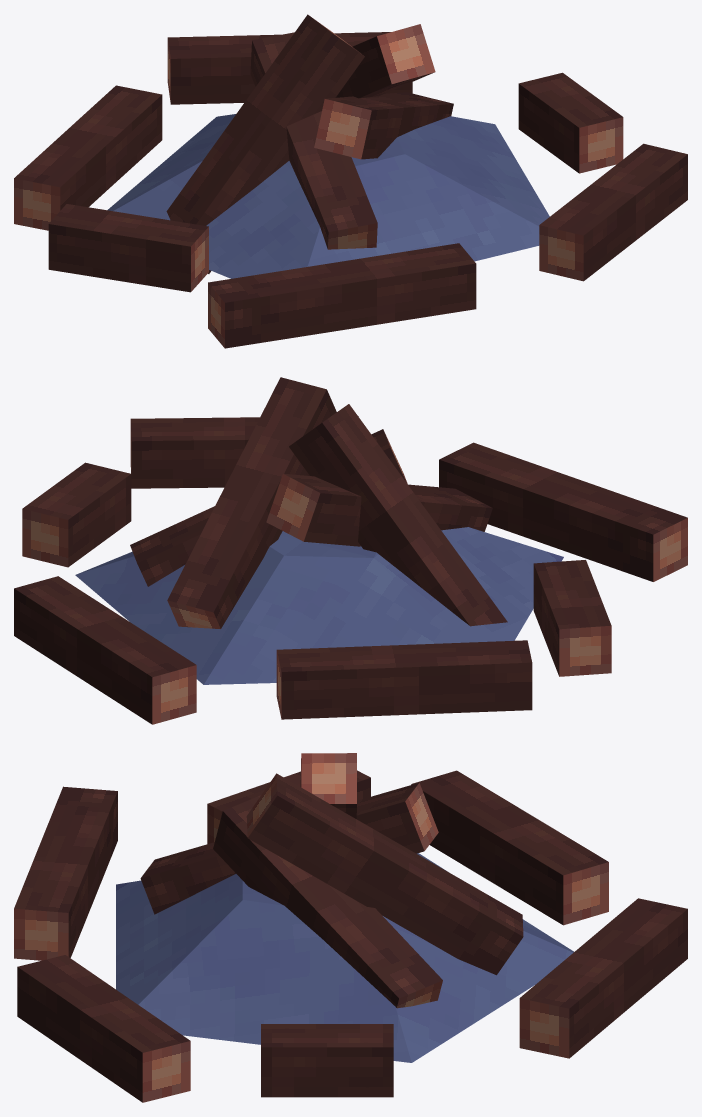
File: bonfire.fbx
3 views of the same model, one above another, from view 1: azimuth 30°, elevation 25°; view 2: azimuth 150°, elevation 25°; view 3: azimuth 270°, elevation 25° (orthographic). The views are drawn at different scales.
Parts seen in each view (by area): view 1: bonfire; view 2: bonfire; view 3: bonfire.
Boxes of the visible parts, x1,y1,x2,y2 form: bonfire: (14,14,687,348); bonfire: (14,377,687,724); bonfire: (14,753,687,1102).
Bounding box in the file's own units: 21.4 × 20.77 × 7.81.
1 material, 1 textured.
